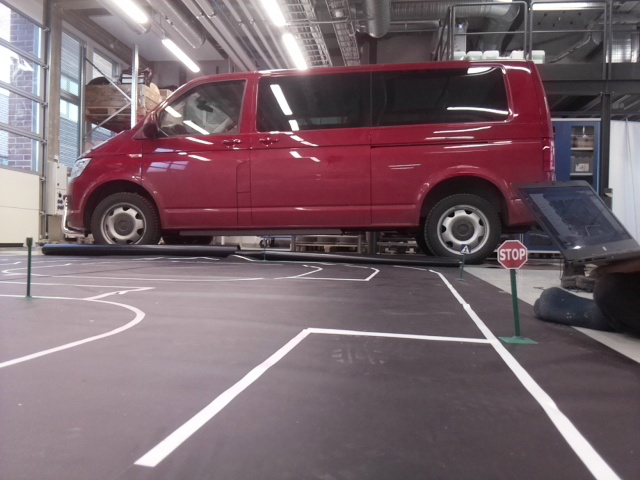Stop: (497, 240, 527, 269)
